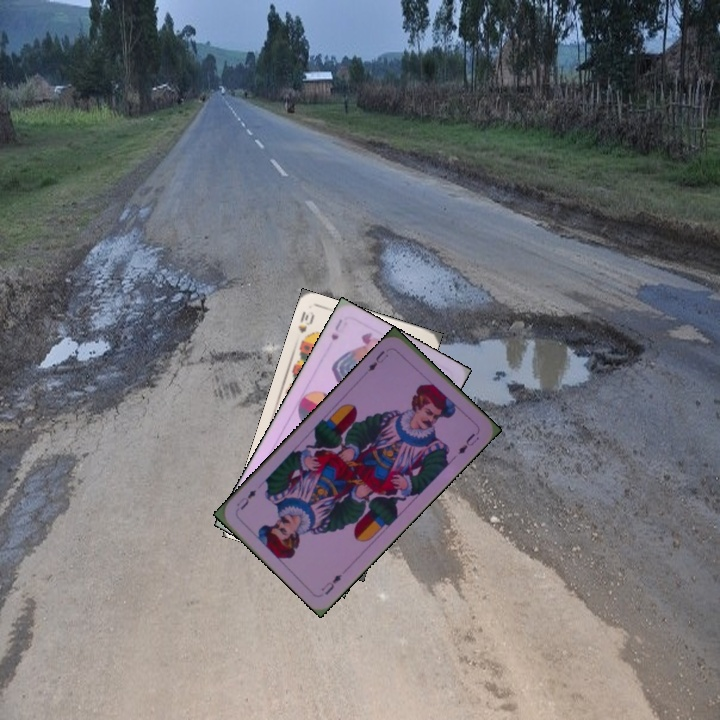EU: (364, 346, 391, 374), (317, 570, 344, 597)
S10: (294, 307, 317, 346)
SU: (327, 315, 345, 343)
